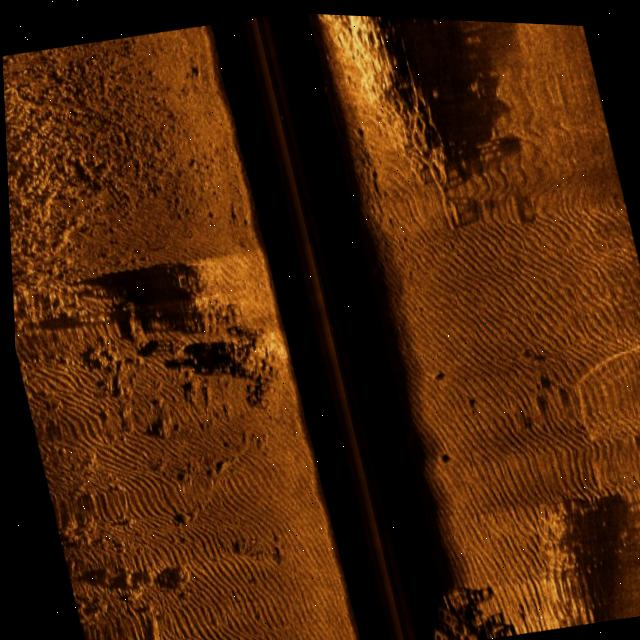artificial reef: (317, 11, 464, 208), (409, 559, 504, 640)
